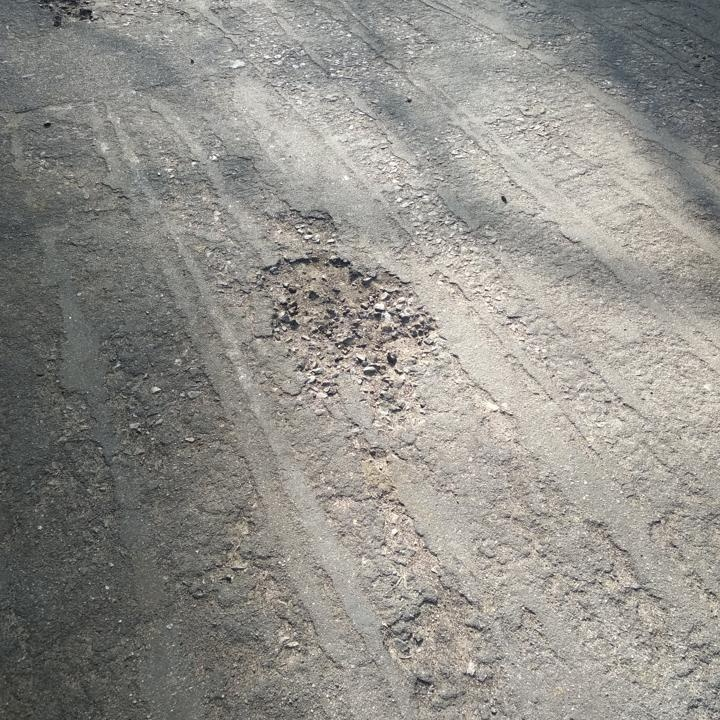pothole: (250, 248, 451, 401), (275, 204, 340, 247)
